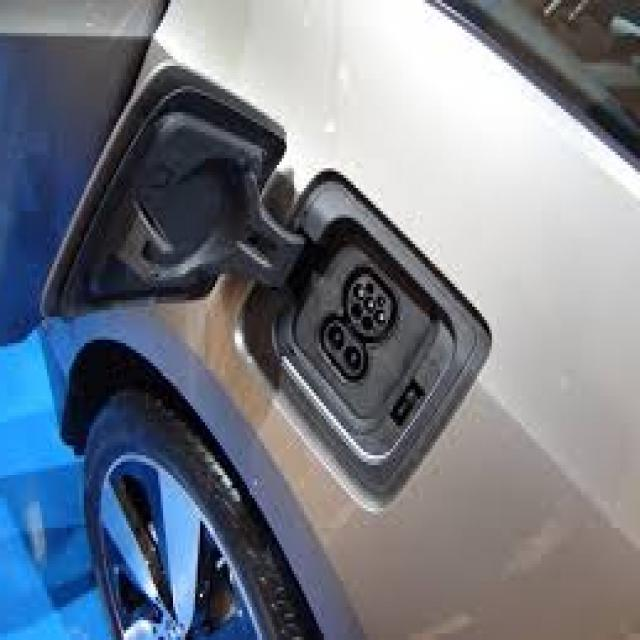Type 2: (311, 253, 415, 339)
